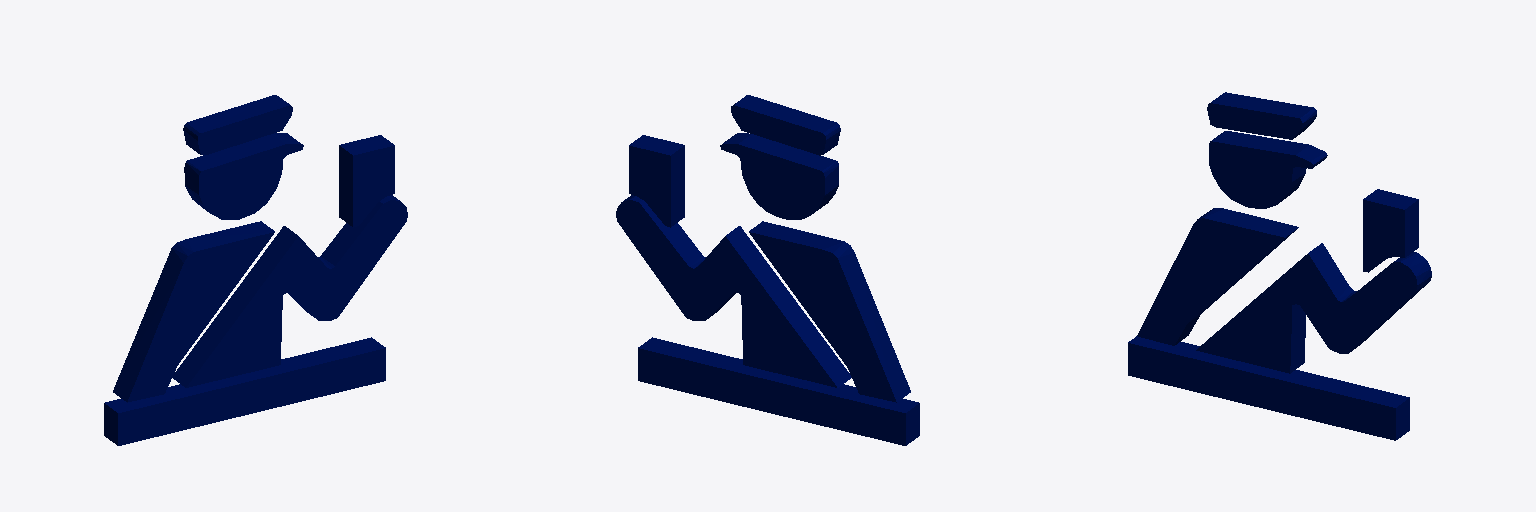
The model's file is passport.obj.
The picture shows the model from 3 angles: view 1: azimuth 30°, elevation 25°; view 2: azimuth 150°, elevation 25°; view 3: azimuth 330°, elevation 25°; orthographic projection.
Bounding box in the file's own units: 4.61 × 4.55 × 0.4.